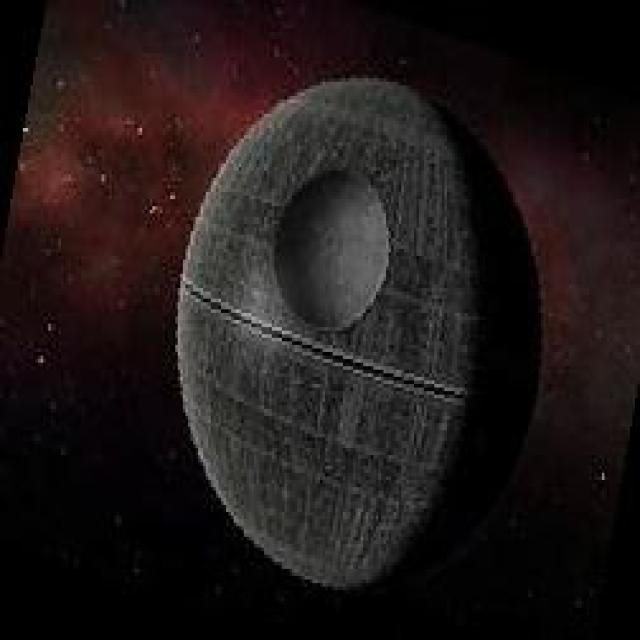Death Star: (167, 52, 574, 599)
